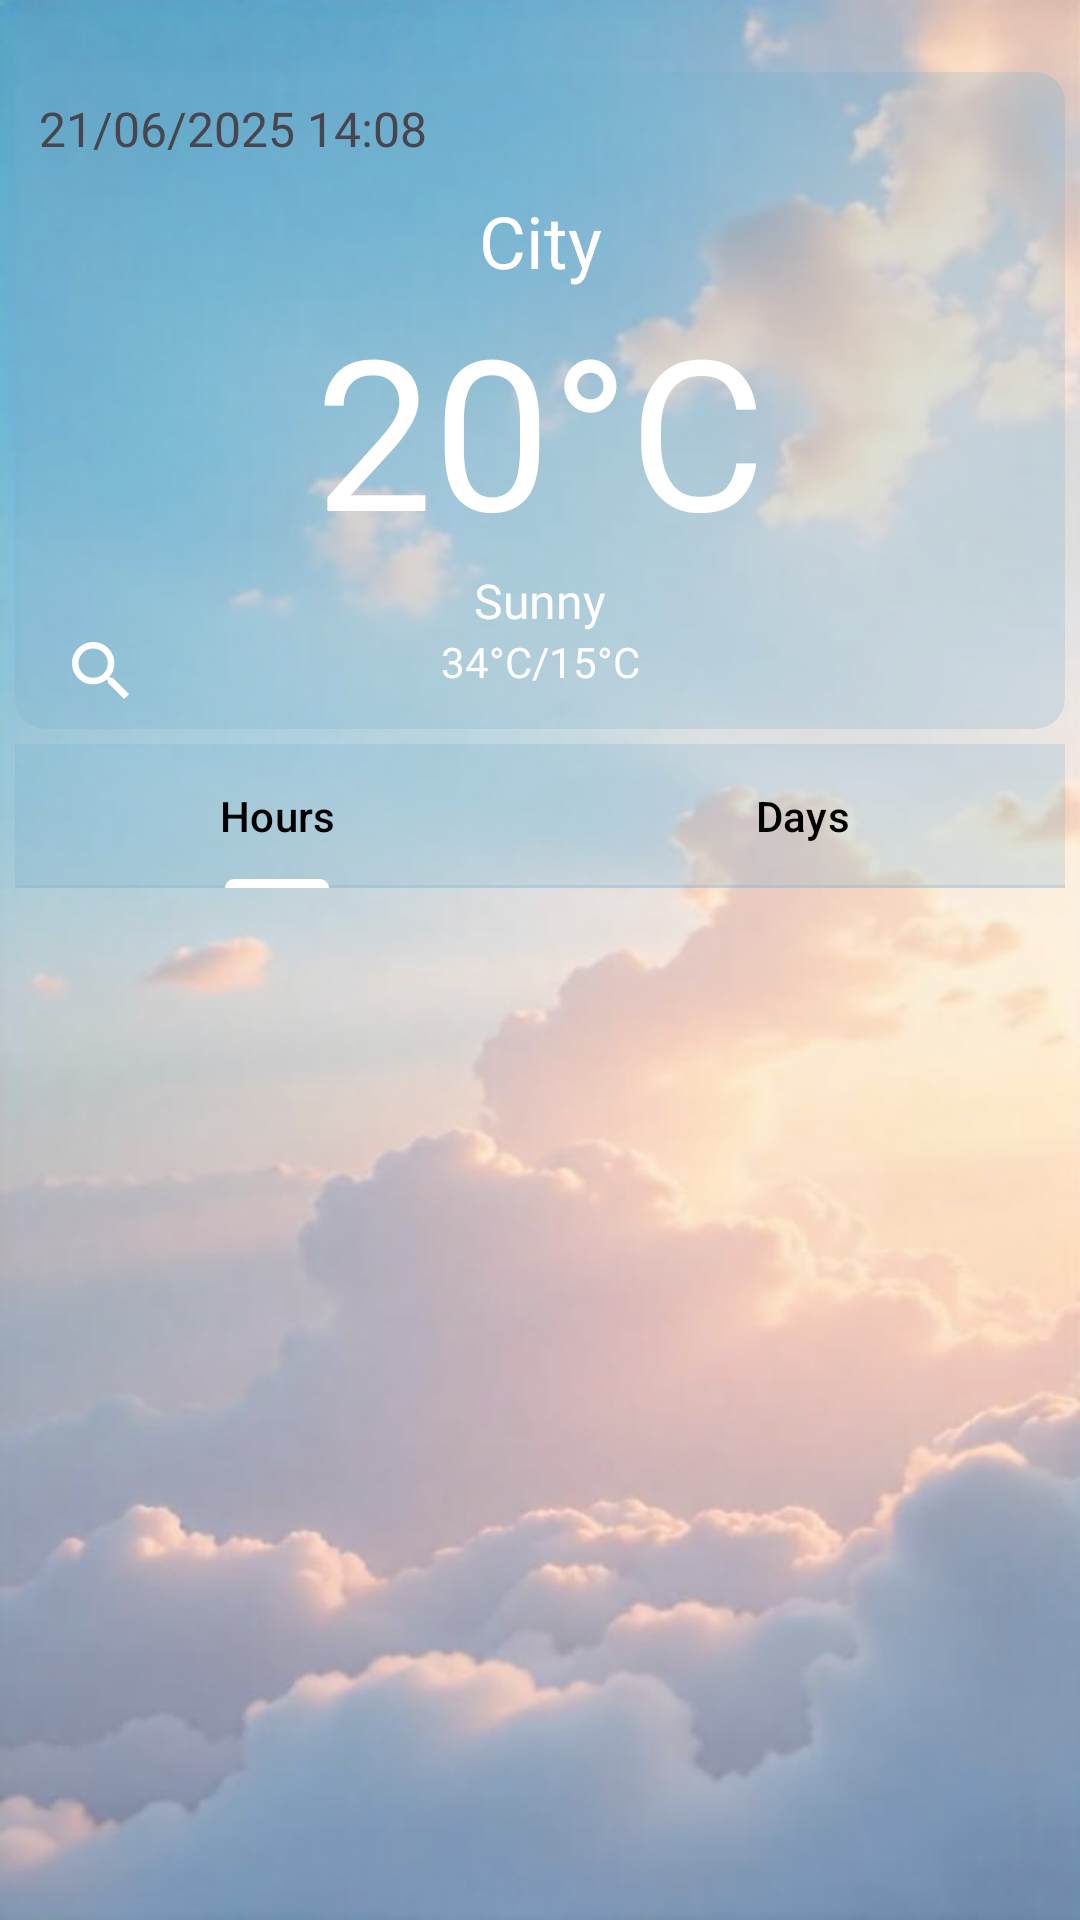

Named icons in this screenshot (1080w x 1920h) and their centers, point (x, y):
search: point (100, 670)
